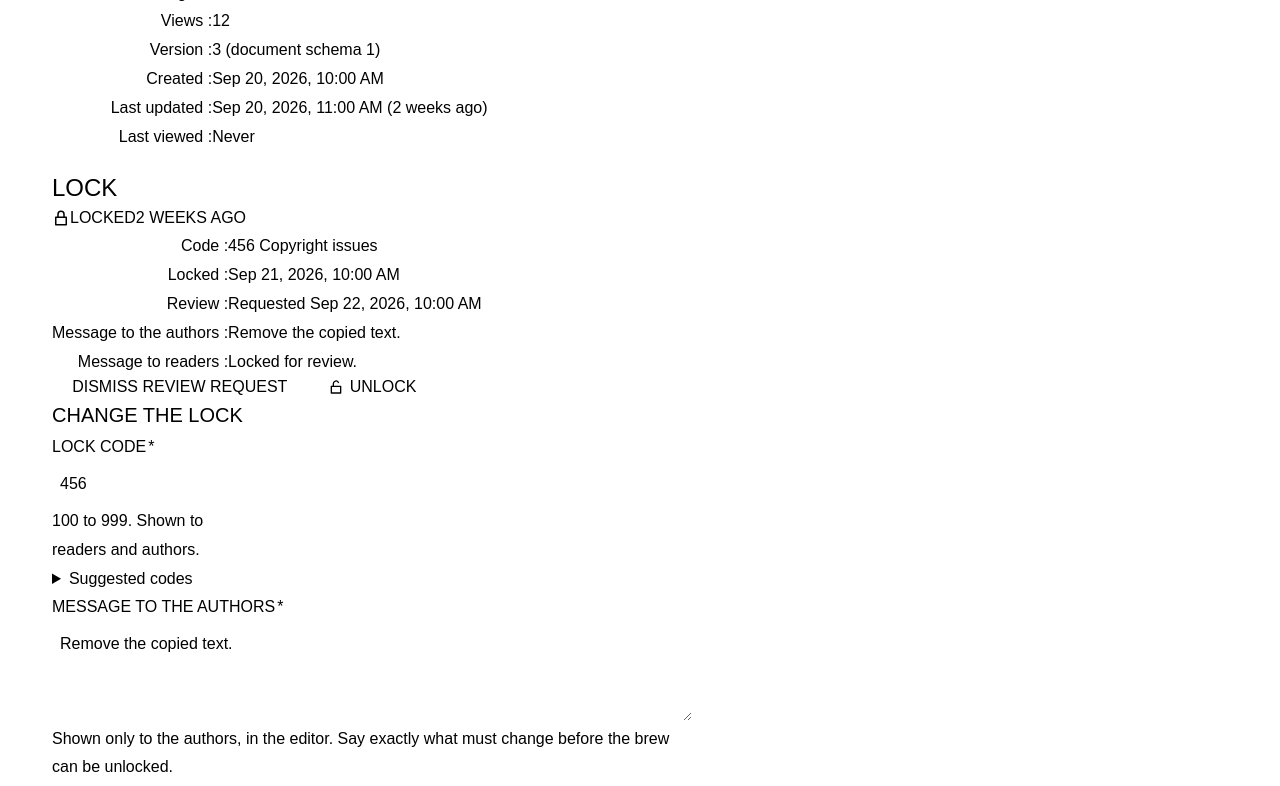
it: lock tools › dismisses a review request and unlocks, each after a confirmation
(page scrolled)
Click the button with test id "admin-dismiss-review": (180, 387) [52,376,308,398]
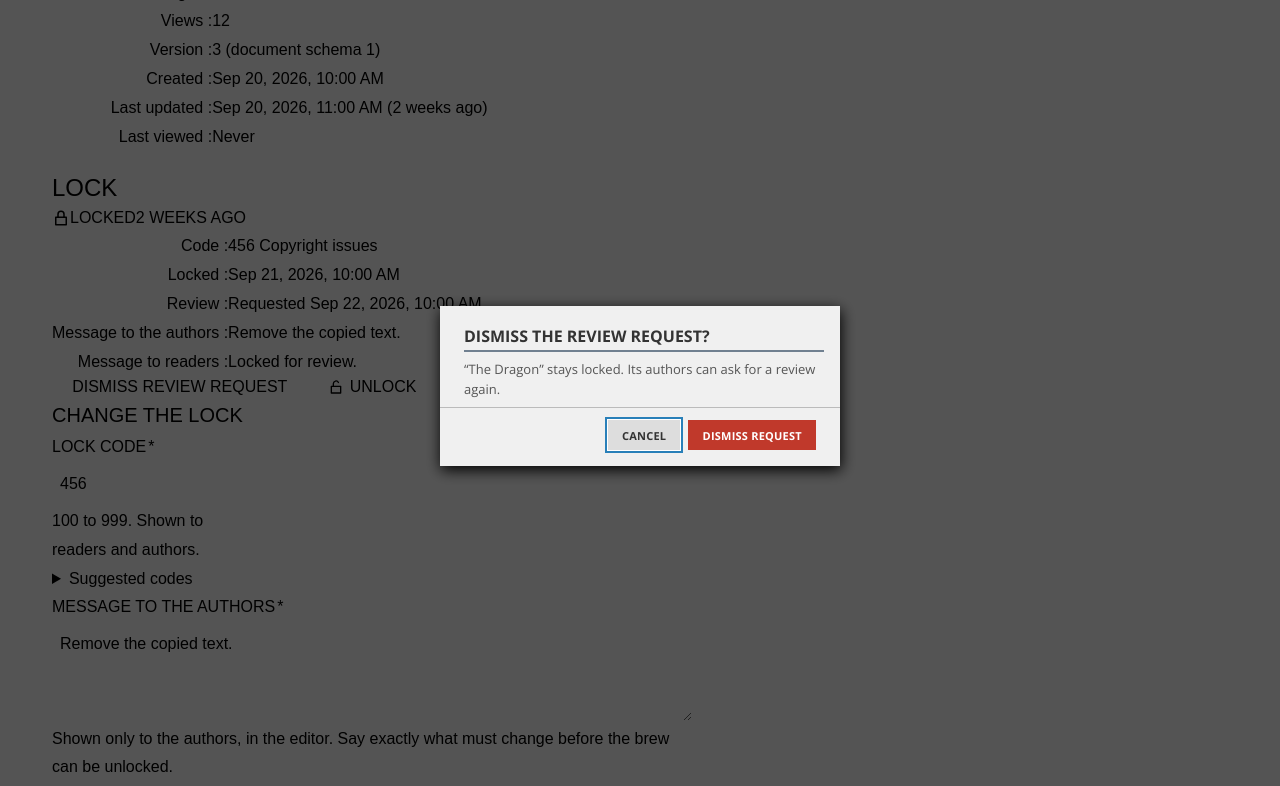
Click the button "Dismiss request": (752, 435) [688,420,816,450]
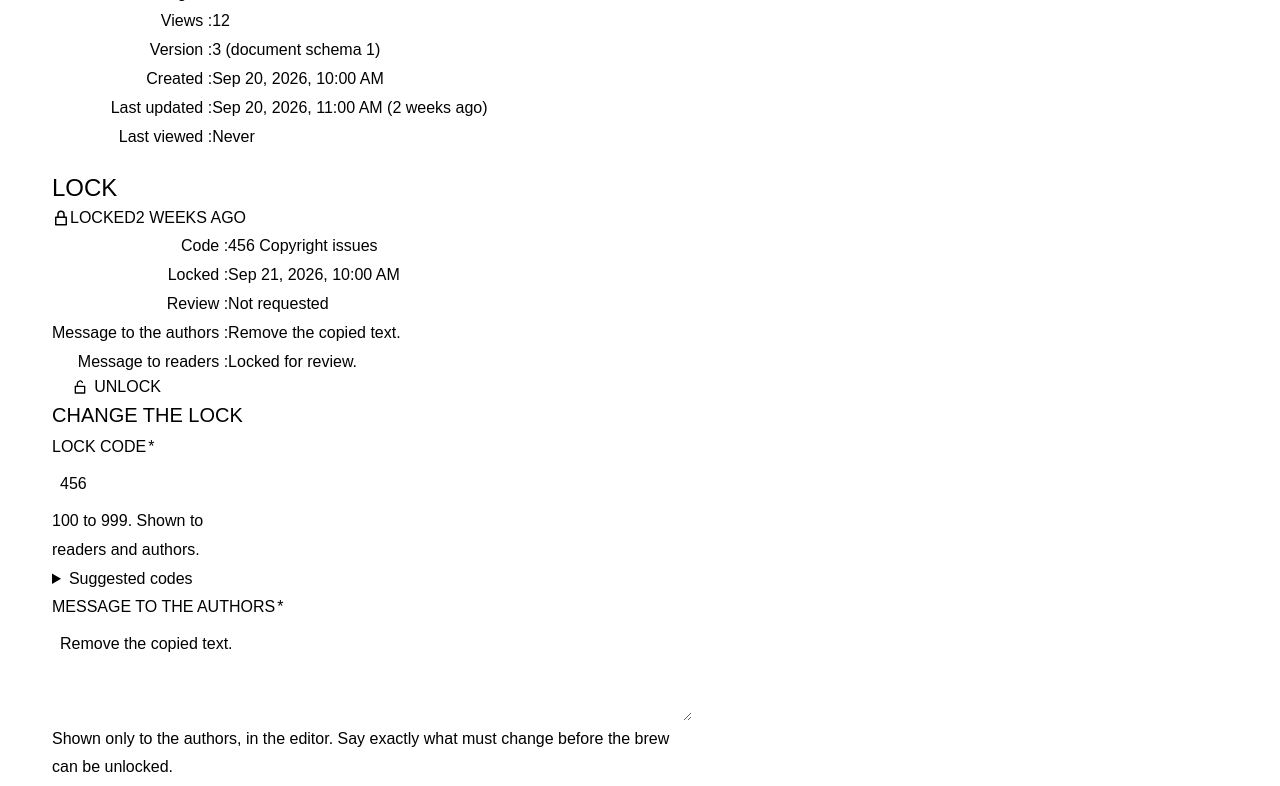
Expected: the text "456 Copyright issues" is shown, [228,237,378,254]
Expected: the text with test id "admin-lock-review" reads "Not requested", [228,295,329,312]
Expected: the button with test id "admin-dismiss-review" is gone
// Escape cancels.
Click the button with test id "admin-unlock": (117, 387) [52,376,181,398]
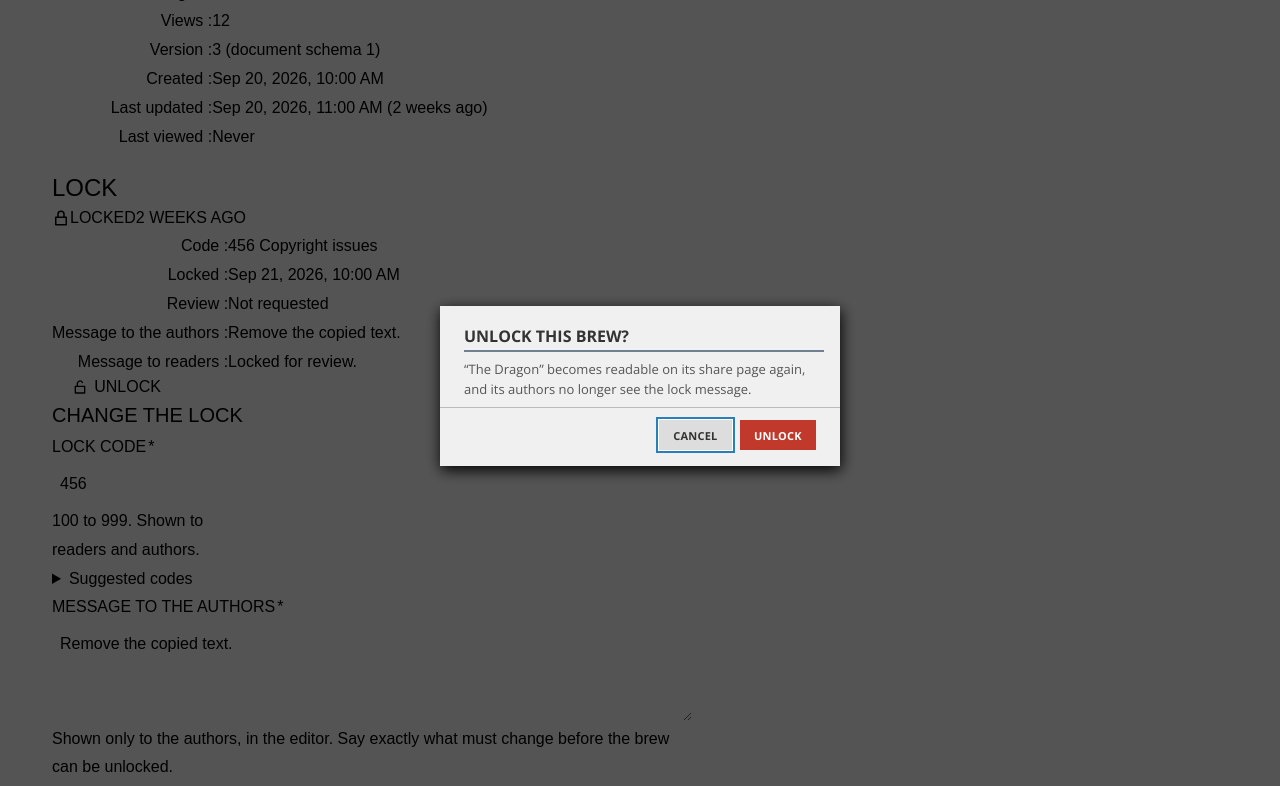
Expected: the dialog "Unlock this brew?" is shown, [440,306,840,466]
Press Escape
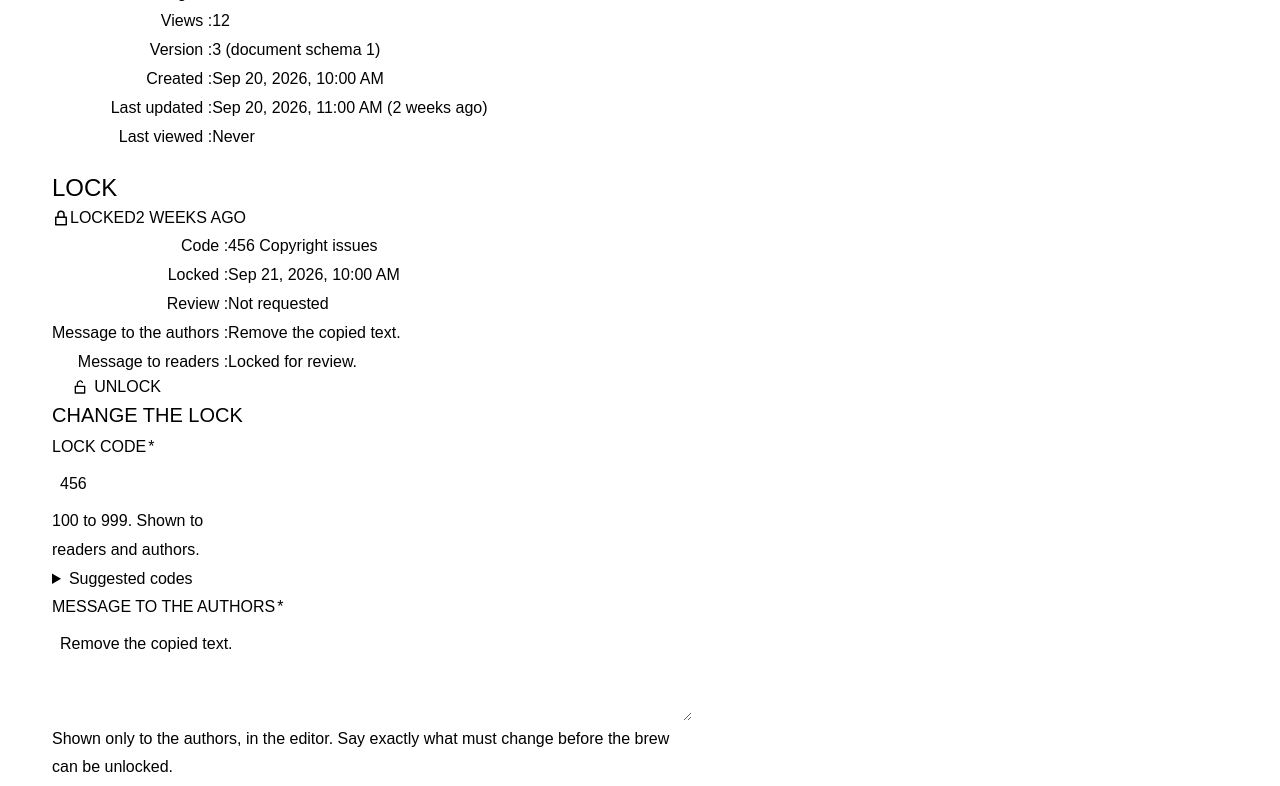
Expected: the dialog is gone
Click the button with test id "admin-unlock": (117, 387) [52,376,181,398]
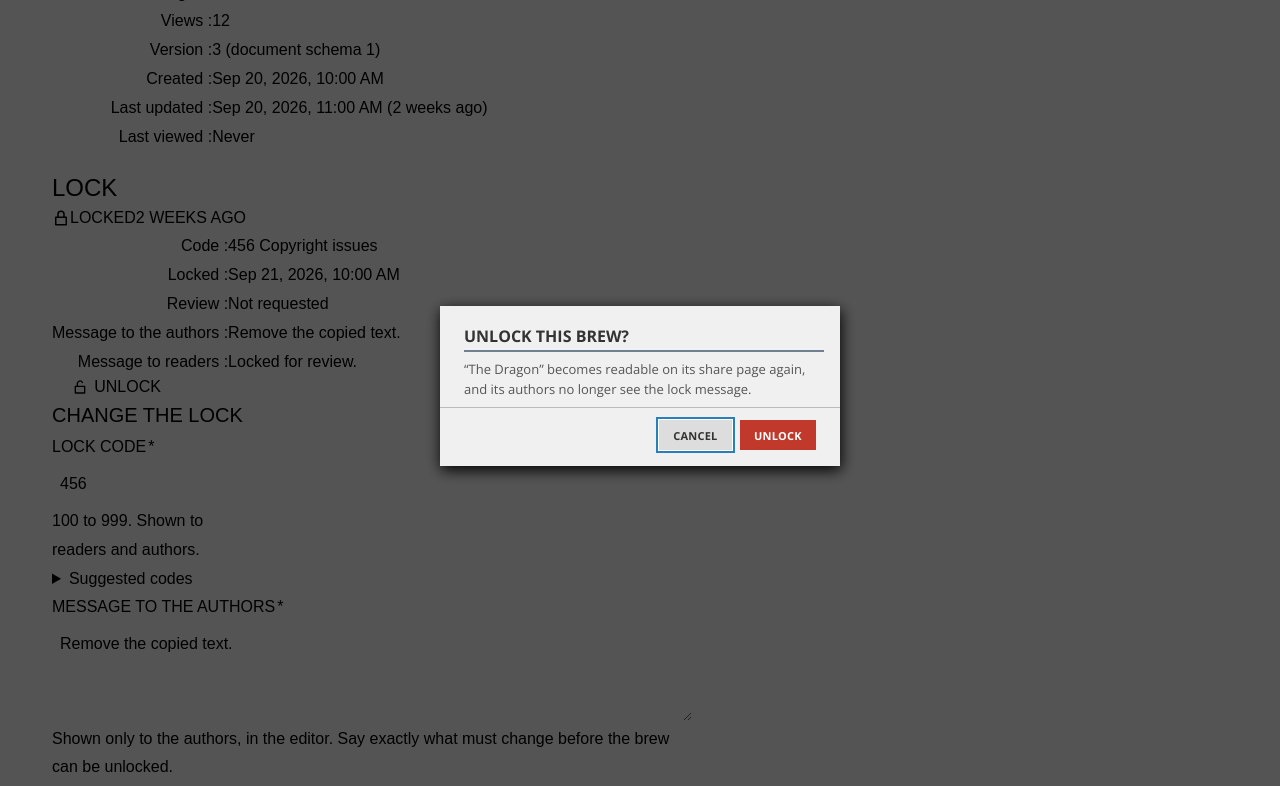
Click the button "Unlock": (778, 435) [740,420,816,450]
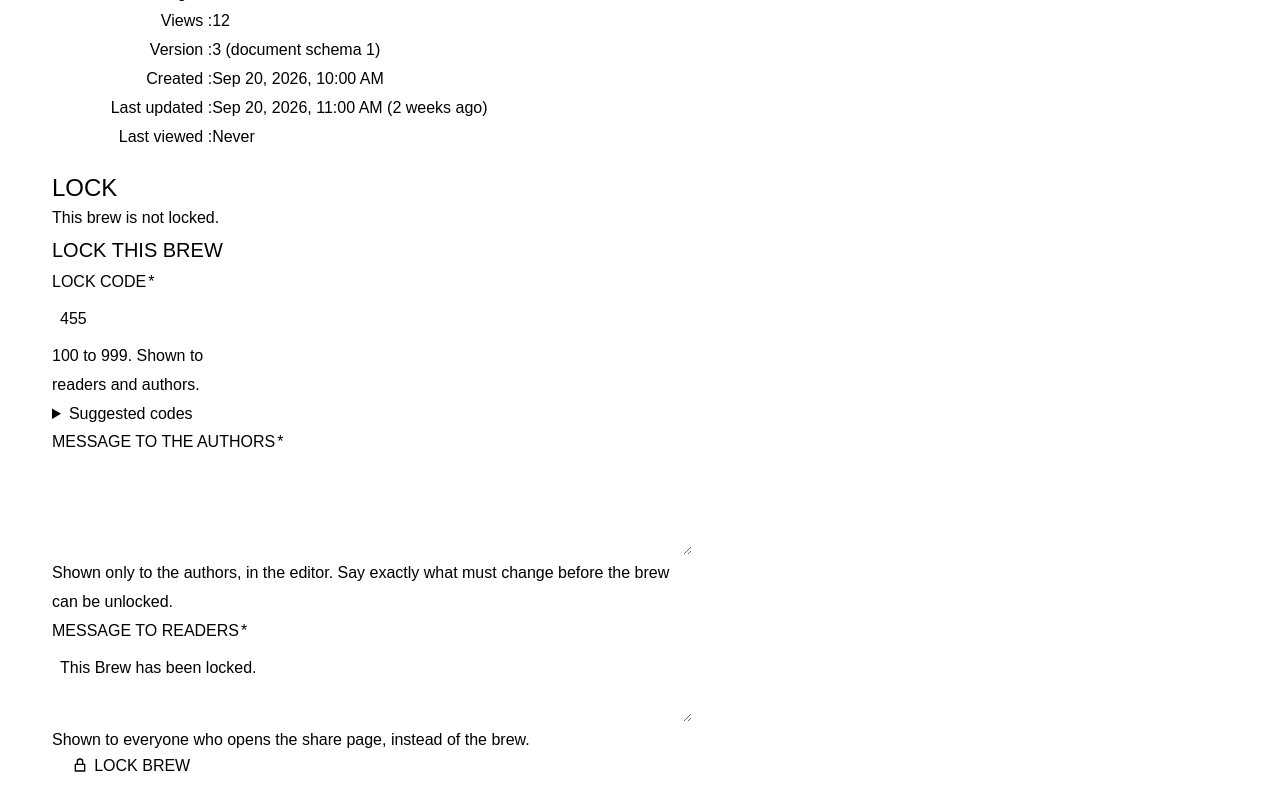
Expected: the text "This brew is not locked." is shown, [52,208,219,226]
Expected: the field labelled "Lock code*" holds "455", [52,301,212,338]
